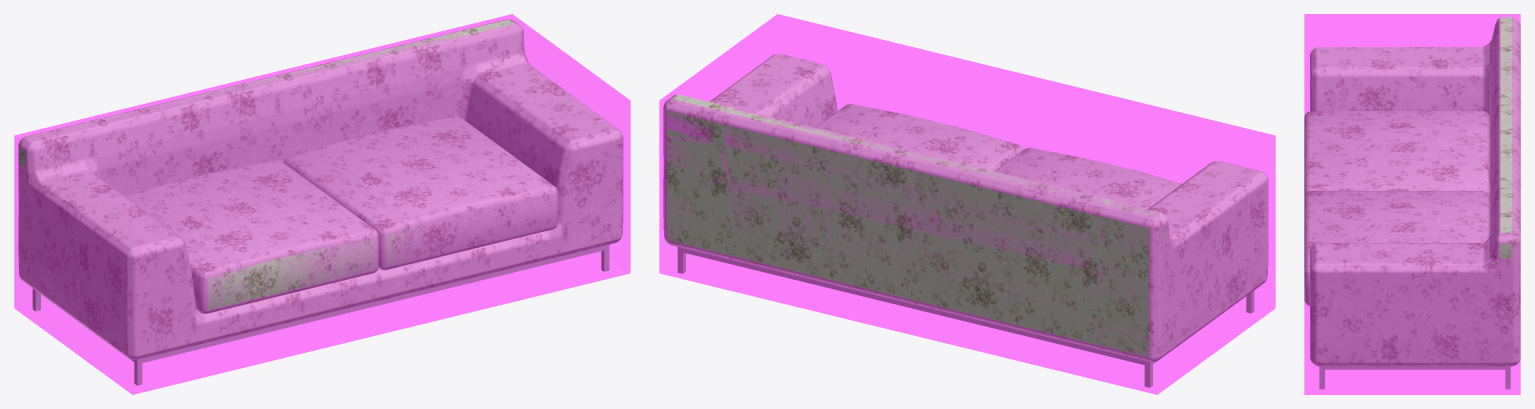
File: sofa_2seater.fbx
3 views of the same model, side by side, from view 1: azimuth 30°, elevation 25°; view 2: azimuth 150°, elevation 25°; view 3: azimuth 270°, elevation 25° (orthographic). The views are drawn at different scales.
Parts seen in each view (by area): view 1: boundingbox, sofa_2seater; view 2: sofa_2seater, boundingbox; view 3: boundingbox, sofa_2seater.
Part boxes in pixels (<box>): boundingbox: <box>14,14,630,394</box>; sofa_2seater: <box>18,19,623,385</box>; sofa_2seater: <box>663,54,1268,387</box>; boundingbox: <box>659,14,1275,394</box>; boundingbox: <box>1304,14,1520,394</box>; sofa_2seater: <box>1304,17,1520,389</box>.
Bounding box in the file's own units: 192 × 63.73 × 78.91.
Materials: 3 (1 with a texture image).
